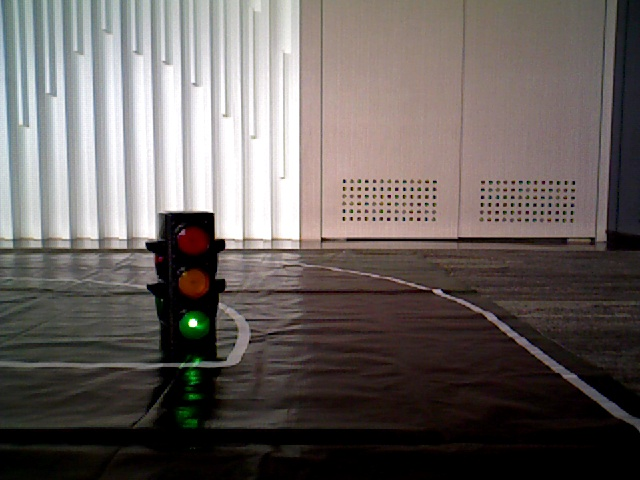green: (170, 213, 216, 349)
